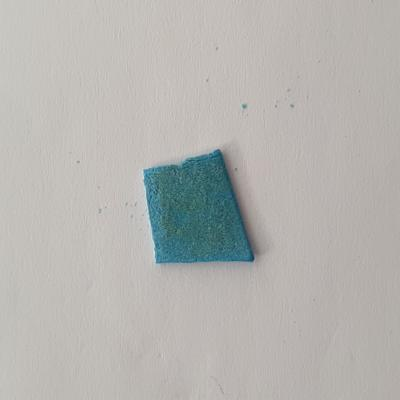plastic: (138, 141, 260, 272)
